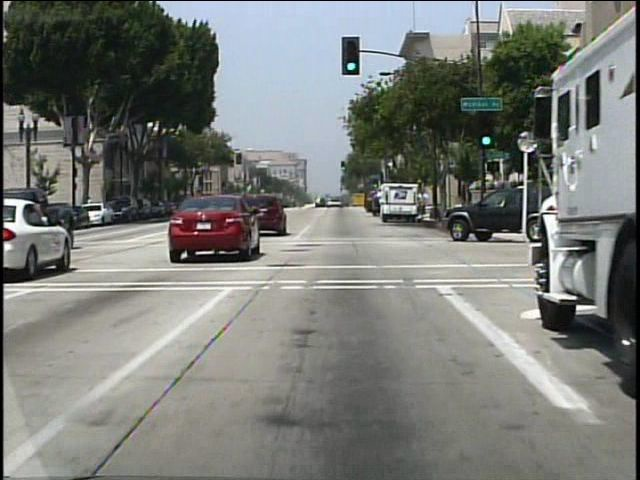person: (416, 188, 428, 221)
